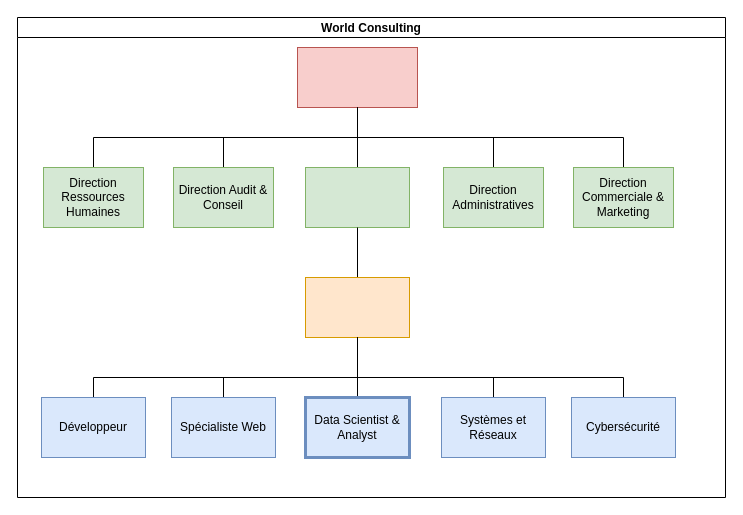
This 743x515 diagram has some shape labels left out. Each missing label, with the centre of its shape:
"Direction Générale" belongs at point (357, 77).
"Direction Technique" belongs at point (357, 197).
"Département informatique" belongs at point (357, 307).
